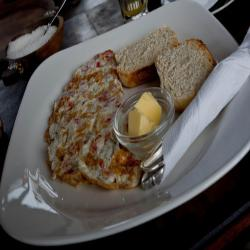bread: (117, 26, 215, 114)
omelette: (48, 58, 145, 196)
